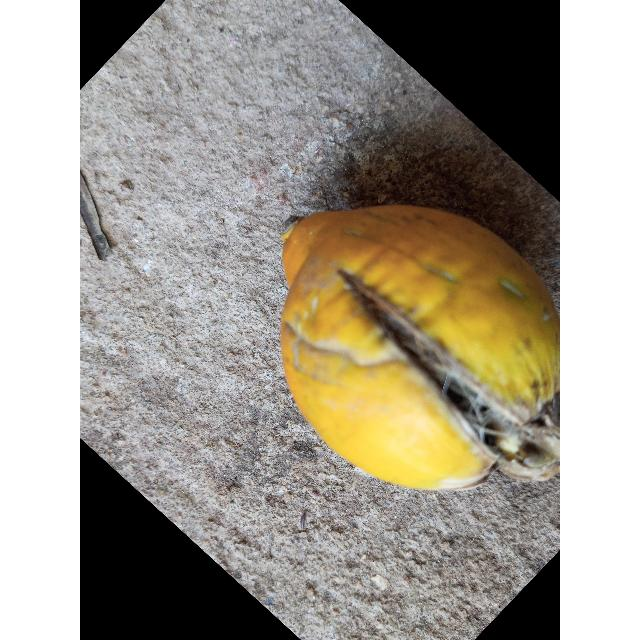damaged: (278, 205, 560, 494)
